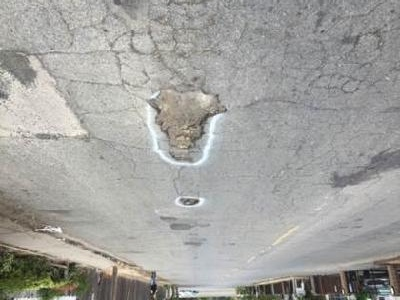pothole: (147, 86, 225, 163), (177, 196, 201, 209)
